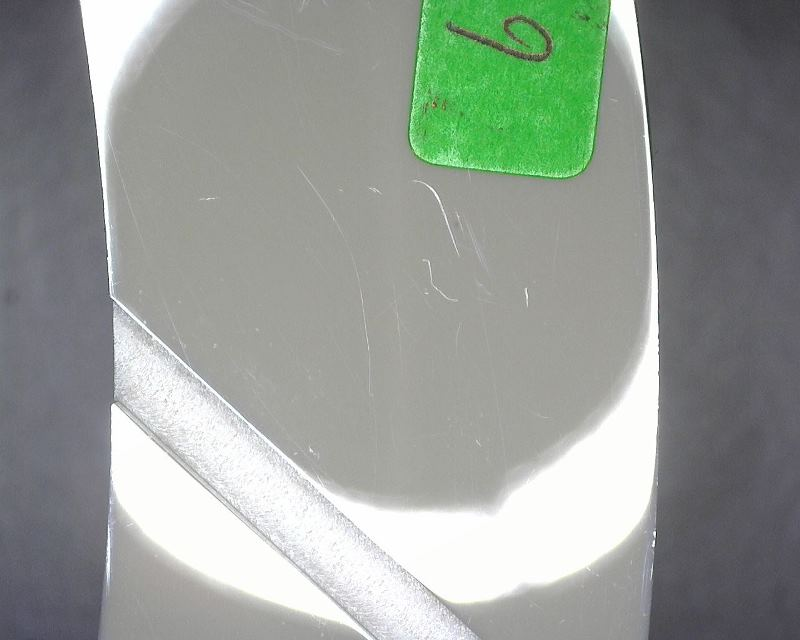scratch: (295, 161, 378, 396), (408, 175, 463, 254), (419, 257, 460, 306), (197, 190, 222, 205), (305, 442, 320, 459), (521, 285, 531, 308), (371, 183, 381, 198)
